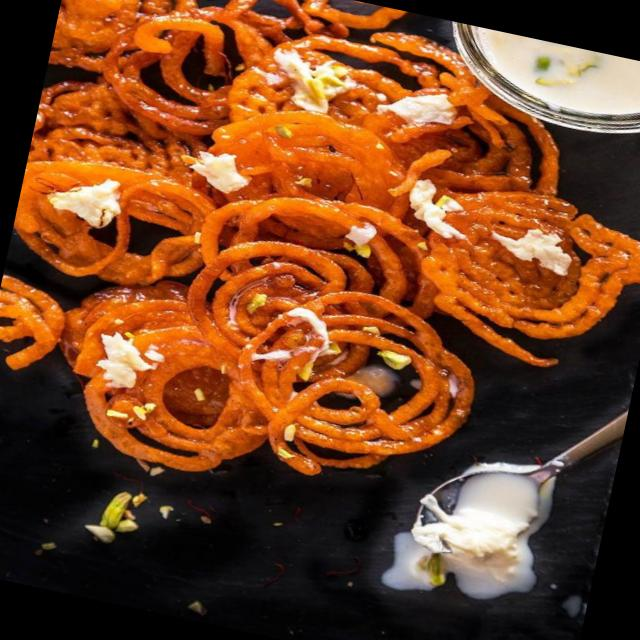jalebi: (0, 0, 640, 571)
